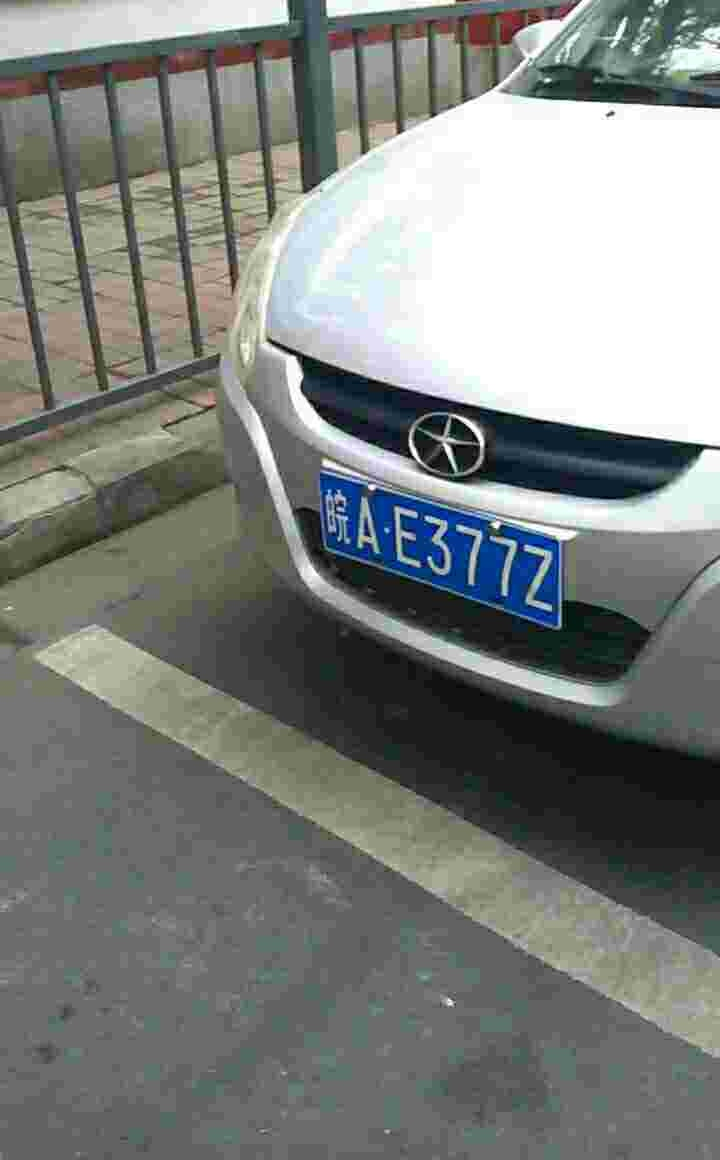license_plate: (312, 467, 571, 627)
